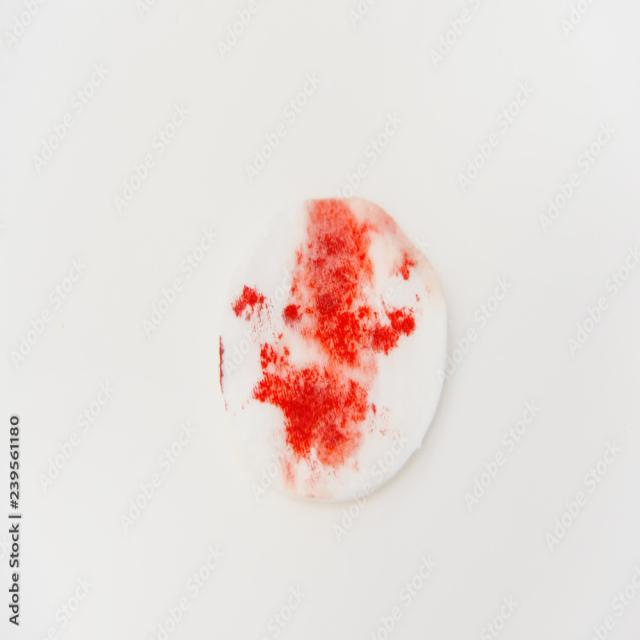B3: (204, 181, 470, 504)
